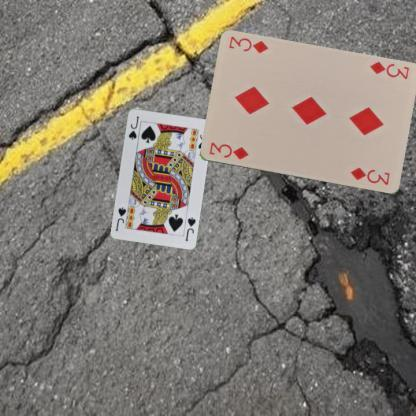3d: (206, 139, 250, 161), (366, 59, 410, 81)
Js: (126, 113, 140, 141), (182, 214, 196, 242)
